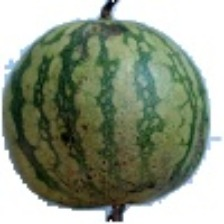watermelon: (10, 18, 209, 164)
